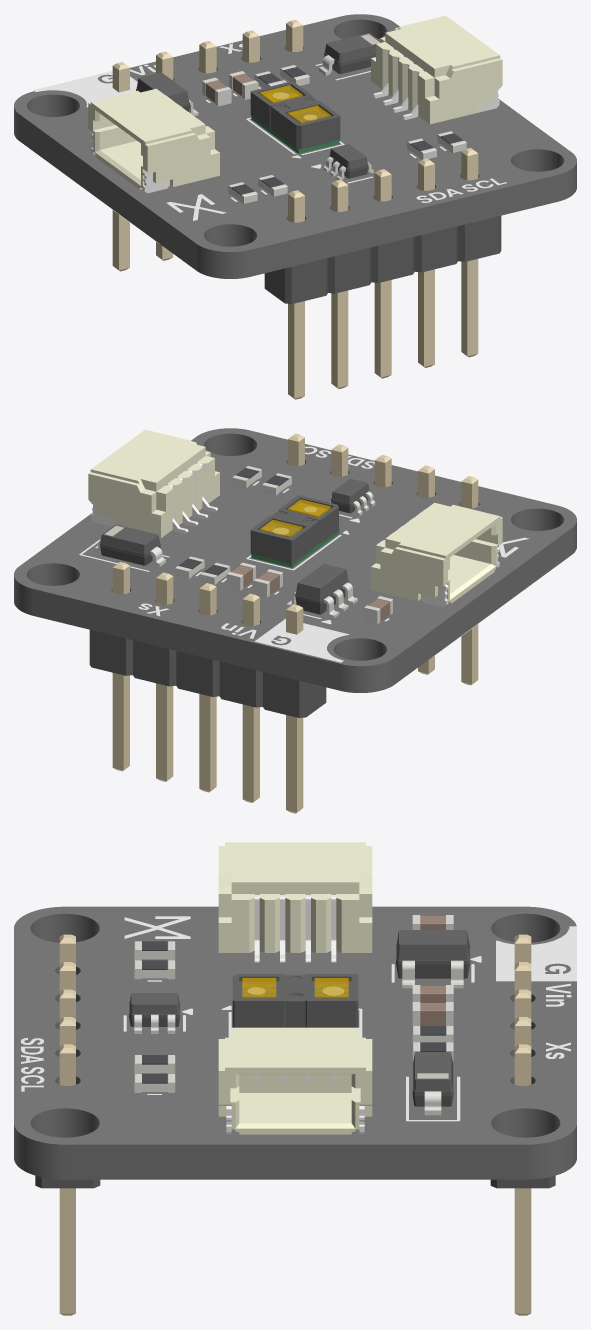
The picture shows the model from 3 angles, top to bottom: view 1: azimuth 30°, elevation 25°; view 2: azimuth 150°, elevation 25°; view 3: azimuth 270°, elevation 25°; orthographic projection. The views are drawn at different scales.
Parts seen in each view (by area): view 1: Node15, Node2, Node9, Node4, Node6, Node3, Node1, Node8, Node12, Node7, Node10; view 2: Node15, Node2, Node9, Node4, Node3, Node6, Node1, Node12, Node10, Node8; view 3: Node15, Node2, Node9, Node4, Node6, Node3, Node1, Node7, Node8, Node12, Node10.
Part boxes in pixels (left/top/right/bottom): Node15: left=14, top=14, right=576, bottom=278; Node2: left=88, top=15, right=502, bottom=189; Node9: left=136, top=33, right=501, bottom=304; Node4: left=112, top=19, right=478, bottom=399; Node6: left=33, top=43, right=506, bottom=243; Node3: left=188, top=55, right=466, bottom=204; Node1: left=91, top=48, right=499, bottom=193; Node8: left=231, top=67, right=463, bottom=194; Node12: left=260, top=85, right=330, bottom=123; Node7: left=228, top=69, right=452, bottom=203; Node10: left=205, top=74, right=253, bottom=102; Node15: left=14, top=428, right=576, bottom=692; Node2: left=88, top=429, right=502, bottom=603; Node9: left=89, top=479, right=369, bottom=717; Node4: left=112, top=433, right=478, bottom=813; Node3: left=94, top=466, right=392, bottom=624; Node6: left=79, top=446, right=531, bottom=662; Node1: left=91, top=462, right=499, bottom=607; Node12: left=260, top=499, right=330, bottom=537; Node10: left=231, top=565, right=389, bottom=621; Node8: left=178, top=468, right=288, bottom=575; Node15: left=14, top=906, right=576, bottom=1179; Node2: left=218, top=842, right=372, bottom=1134; Node9: left=35, top=930, right=555, bottom=1188; Node4: left=59, top=934, right=531, bottom=1315; Node6: left=20, top=916, right=576, bottom=1121; Node3: left=134, top=915, right=463, bottom=1115; Node1: left=226, top=895, right=364, bottom=1133; Node7: left=135, top=951, right=452, bottom=1091; Node8: left=142, top=941, right=445, bottom=1083; Node12: left=242, top=978, right=348, bottom=998; Node10: left=420, top=916, right=445, bottom=1025.
Size of the model in its own units: 22 by 13.11 by 22.
